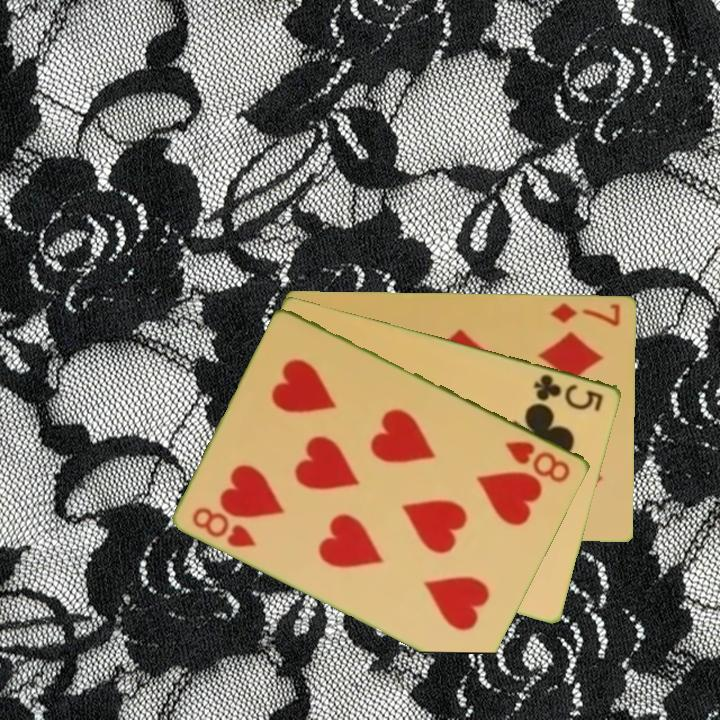5c: (530, 370, 607, 414)
7d: (548, 299, 624, 329)
8h: (502, 437, 574, 486), (189, 503, 260, 551)
